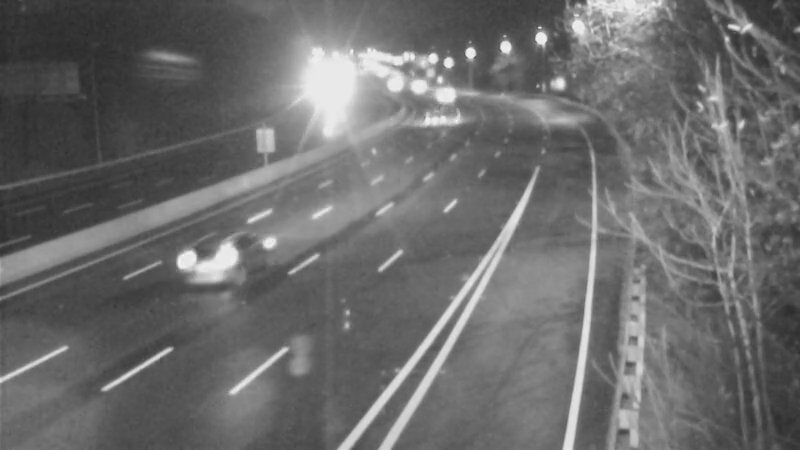vehicle: (175, 215, 255, 295), (386, 62, 436, 112), (416, 71, 466, 121), (403, 96, 453, 146), (299, 72, 349, 122)
